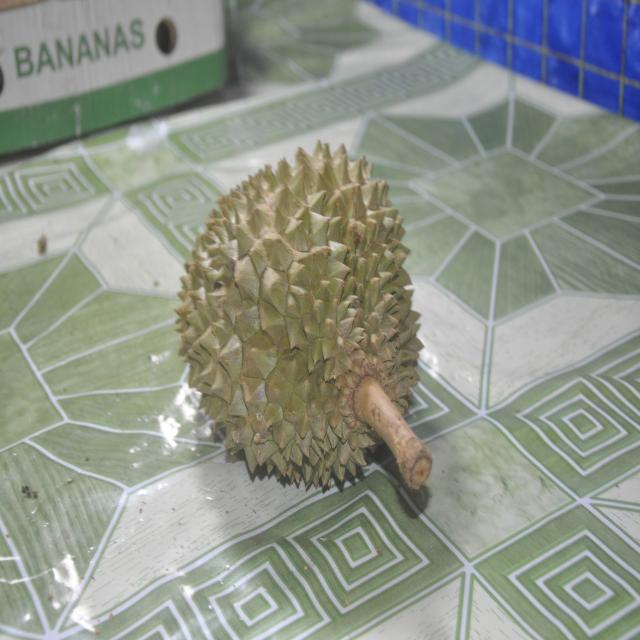mature: (176, 141, 431, 489)
